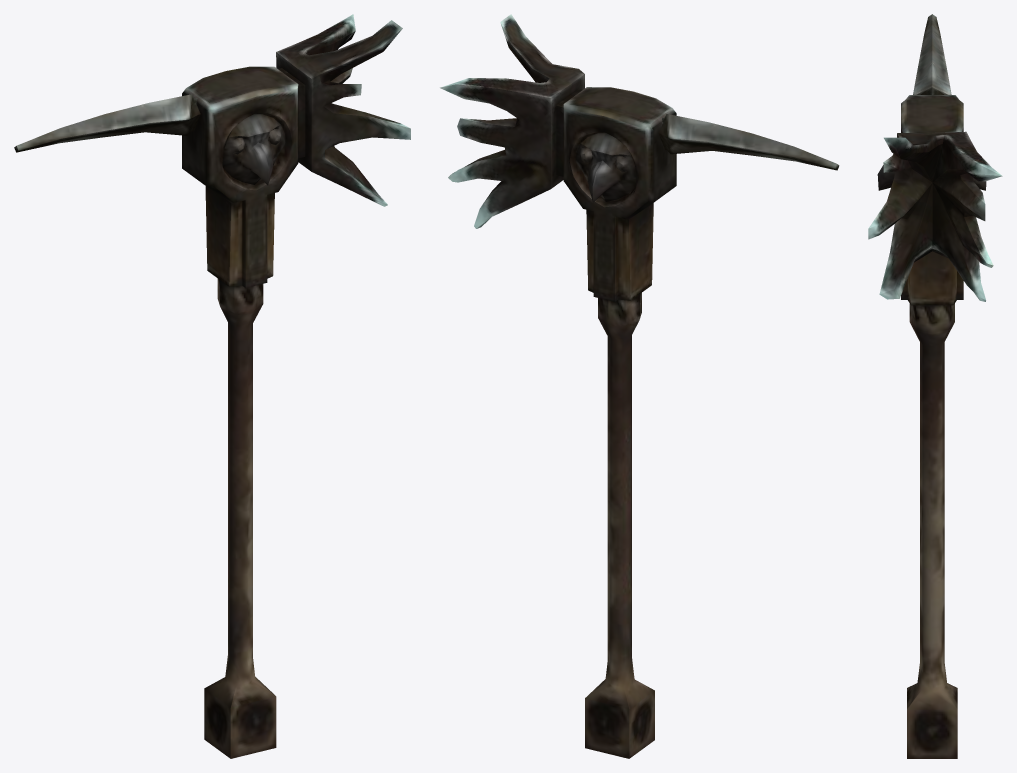
The model's file is weapon-spliced-hammer.glb.
3 views of the same model, side by side, from view 1: azimuth 30°, elevation 25°; view 2: azimuth 150°, elevation 25°; view 3: azimuth 270°, elevation 25° (orthographic). The views are drawn at different scales.
Visible parts, largest first — view 1: greatHammerD_MDL_q; view 2: greatHammerD_MDL_q; view 3: greatHammerD_MDL_q.
Part boxes in pixels (<box>): greatHammerD_MDL_q: <box>14,14,410,758</box>; greatHammerD_MDL_q: <box>440,14,839,758</box>; greatHammerD_MDL_q: <box>868,14,1002,758</box>.
Size of the model in its own units: 1.38 by 2.46 by 0.4446.
1 material, 1 textured.
